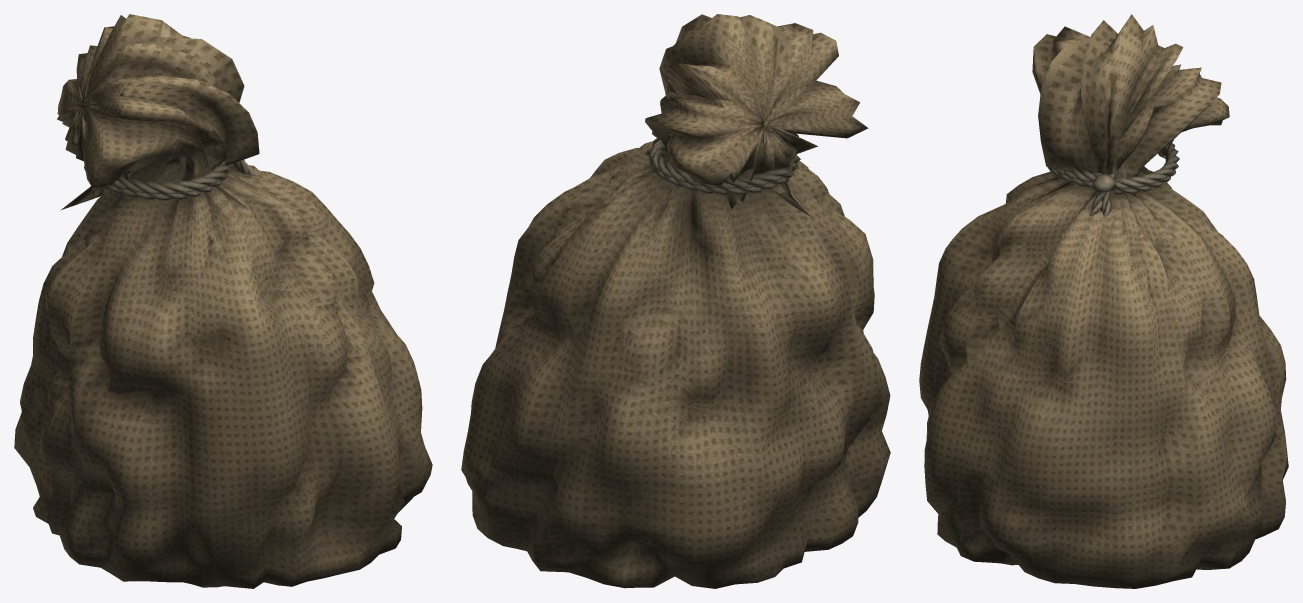
Rendered from sack.glb.
The picture shows the model from 3 angles, left to right: view 1: azimuth 30°, elevation 25°; view 2: azimuth 150°, elevation 25°; view 3: azimuth 270°, elevation 25°; orthographic projection. The views are drawn at different scales.
Visible parts, largest first — view 1: sack; view 2: sack; view 3: sack.
Part boxes in pixels (x1=…): sack: x1=14, y1=14, x2=432, y2=588; sack: x1=461, y1=14, x2=890, y2=588; sack: x1=919, y1=14, x2=1288, y2=588.
Bounding box in the file's own units: 0.3769 × 0.5367 × 0.3733.
1 material, 1 textured.
